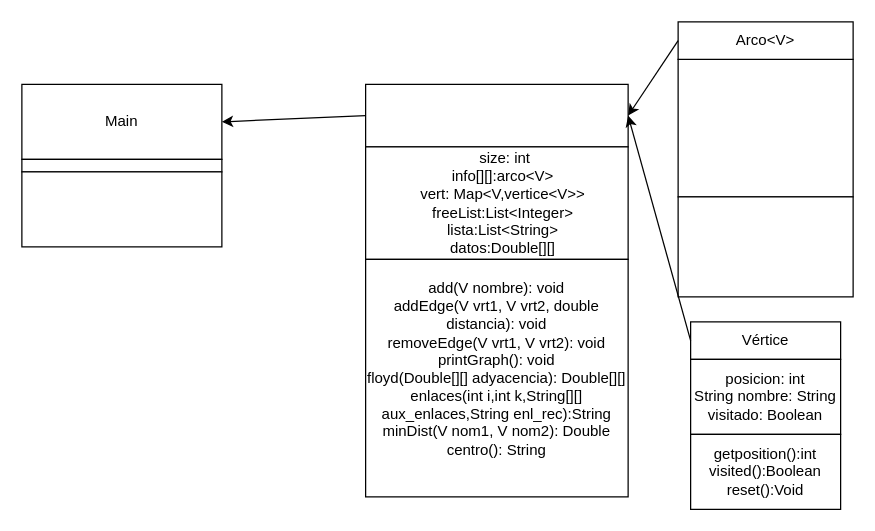
Some shapes in this 875 by 531 pixel diagram are drawn without their labels. The shapes that lost their labels are listed below. From the top down, each one's box as (x1, y1, x2, y2) in pixels, then its label:
(364, 83, 628, 147): matrizDigrafo
(677, 58, 853, 197): vrt1: V vrt2: V distancia: int di :boolean v isitado: boolean
(21, 171, 222, 247): leerarchivo():matrizDigrago getsize():int
(677, 196, 853, 297): here() : V there(): V label(): double
